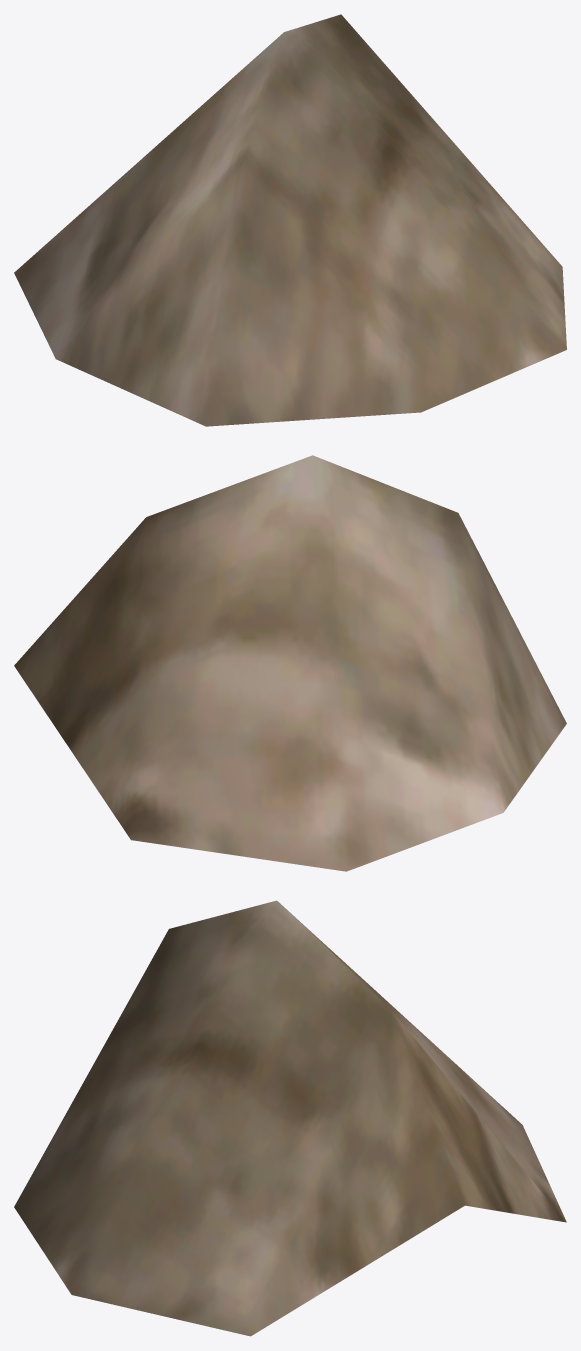
File: OVERHILL_A_01_ROCK61.fbx
3 renders of one model, top to bottom at view 1: azimuth 30°, elevation 25°; view 2: azimuth 150°, elevation 25°; view 3: azimuth 270°, elevation 25°, orthographic. The views are drawn at different scales.
Visible parts, largest first — view 1: OVERHILL_A_01_ROCK61; view 2: OVERHILL_A_01_ROCK61; view 3: OVERHILL_A_01_ROCK61.
Part boxes in pixels (x1,y1,x2,y2): OVERHILL_A_01_ROCK61: [14, 14, 566, 426]; OVERHILL_A_01_ROCK61: [14, 455, 566, 871]; OVERHILL_A_01_ROCK61: [14, 900, 566, 1336].
Size of the model in its own units: 2361 by 1379 by 2293.
1 material, 1 textured.
